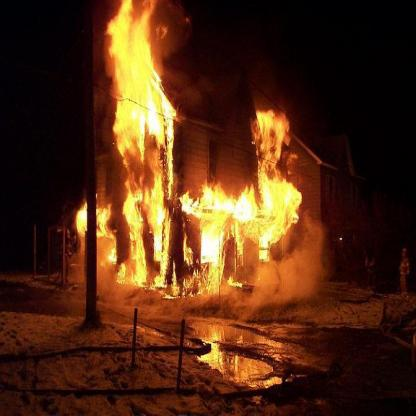fire: (95, 7, 306, 302), (66, 199, 92, 236)
